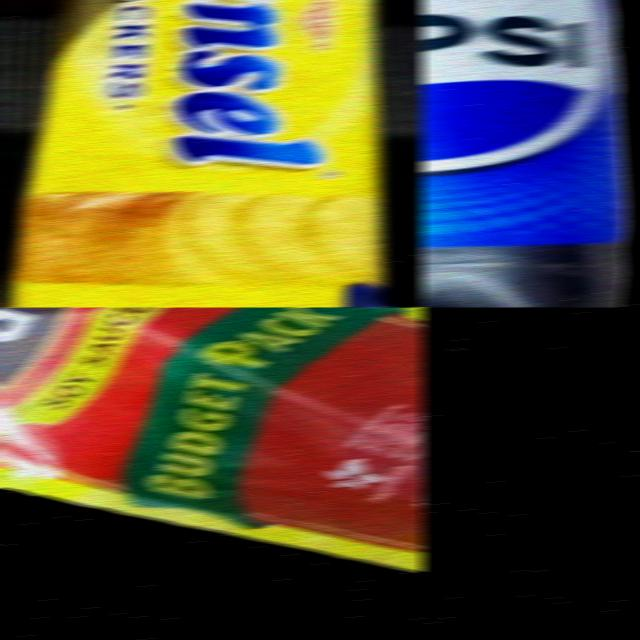Datu Puti soy sauce: (0, 307, 424, 572)
hansel: (0, 0, 424, 307)
pepsi: (420, 0, 628, 307)
